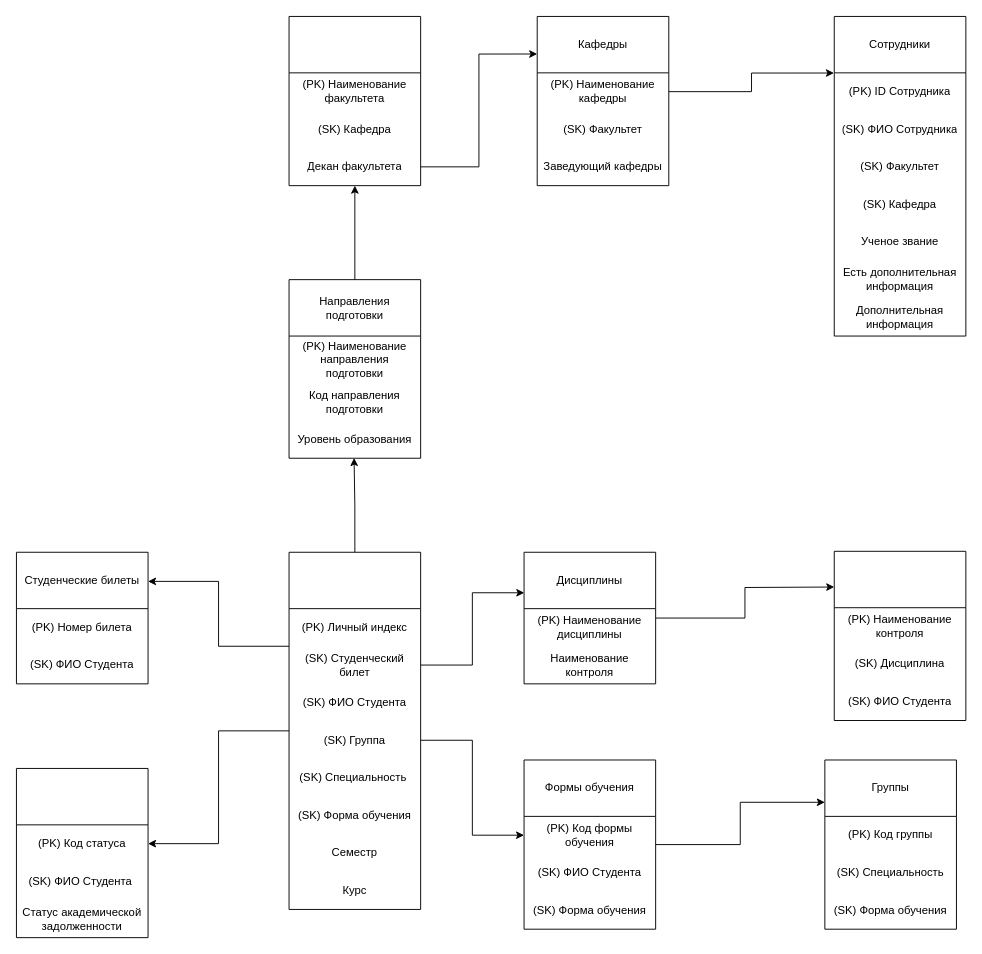
Some shapes in this 982 by 954 pixel diagram are drawn without their labels. The box of each missing label's shape, as (x1, y1, x2, y2) in pixels:
Статуcы задолженностей: (16, 768, 148, 938)
Студенты: (288, 551, 421, 909)
Факультеты: (288, 16, 421, 186)
Формы контроля: (833, 550, 966, 721)
